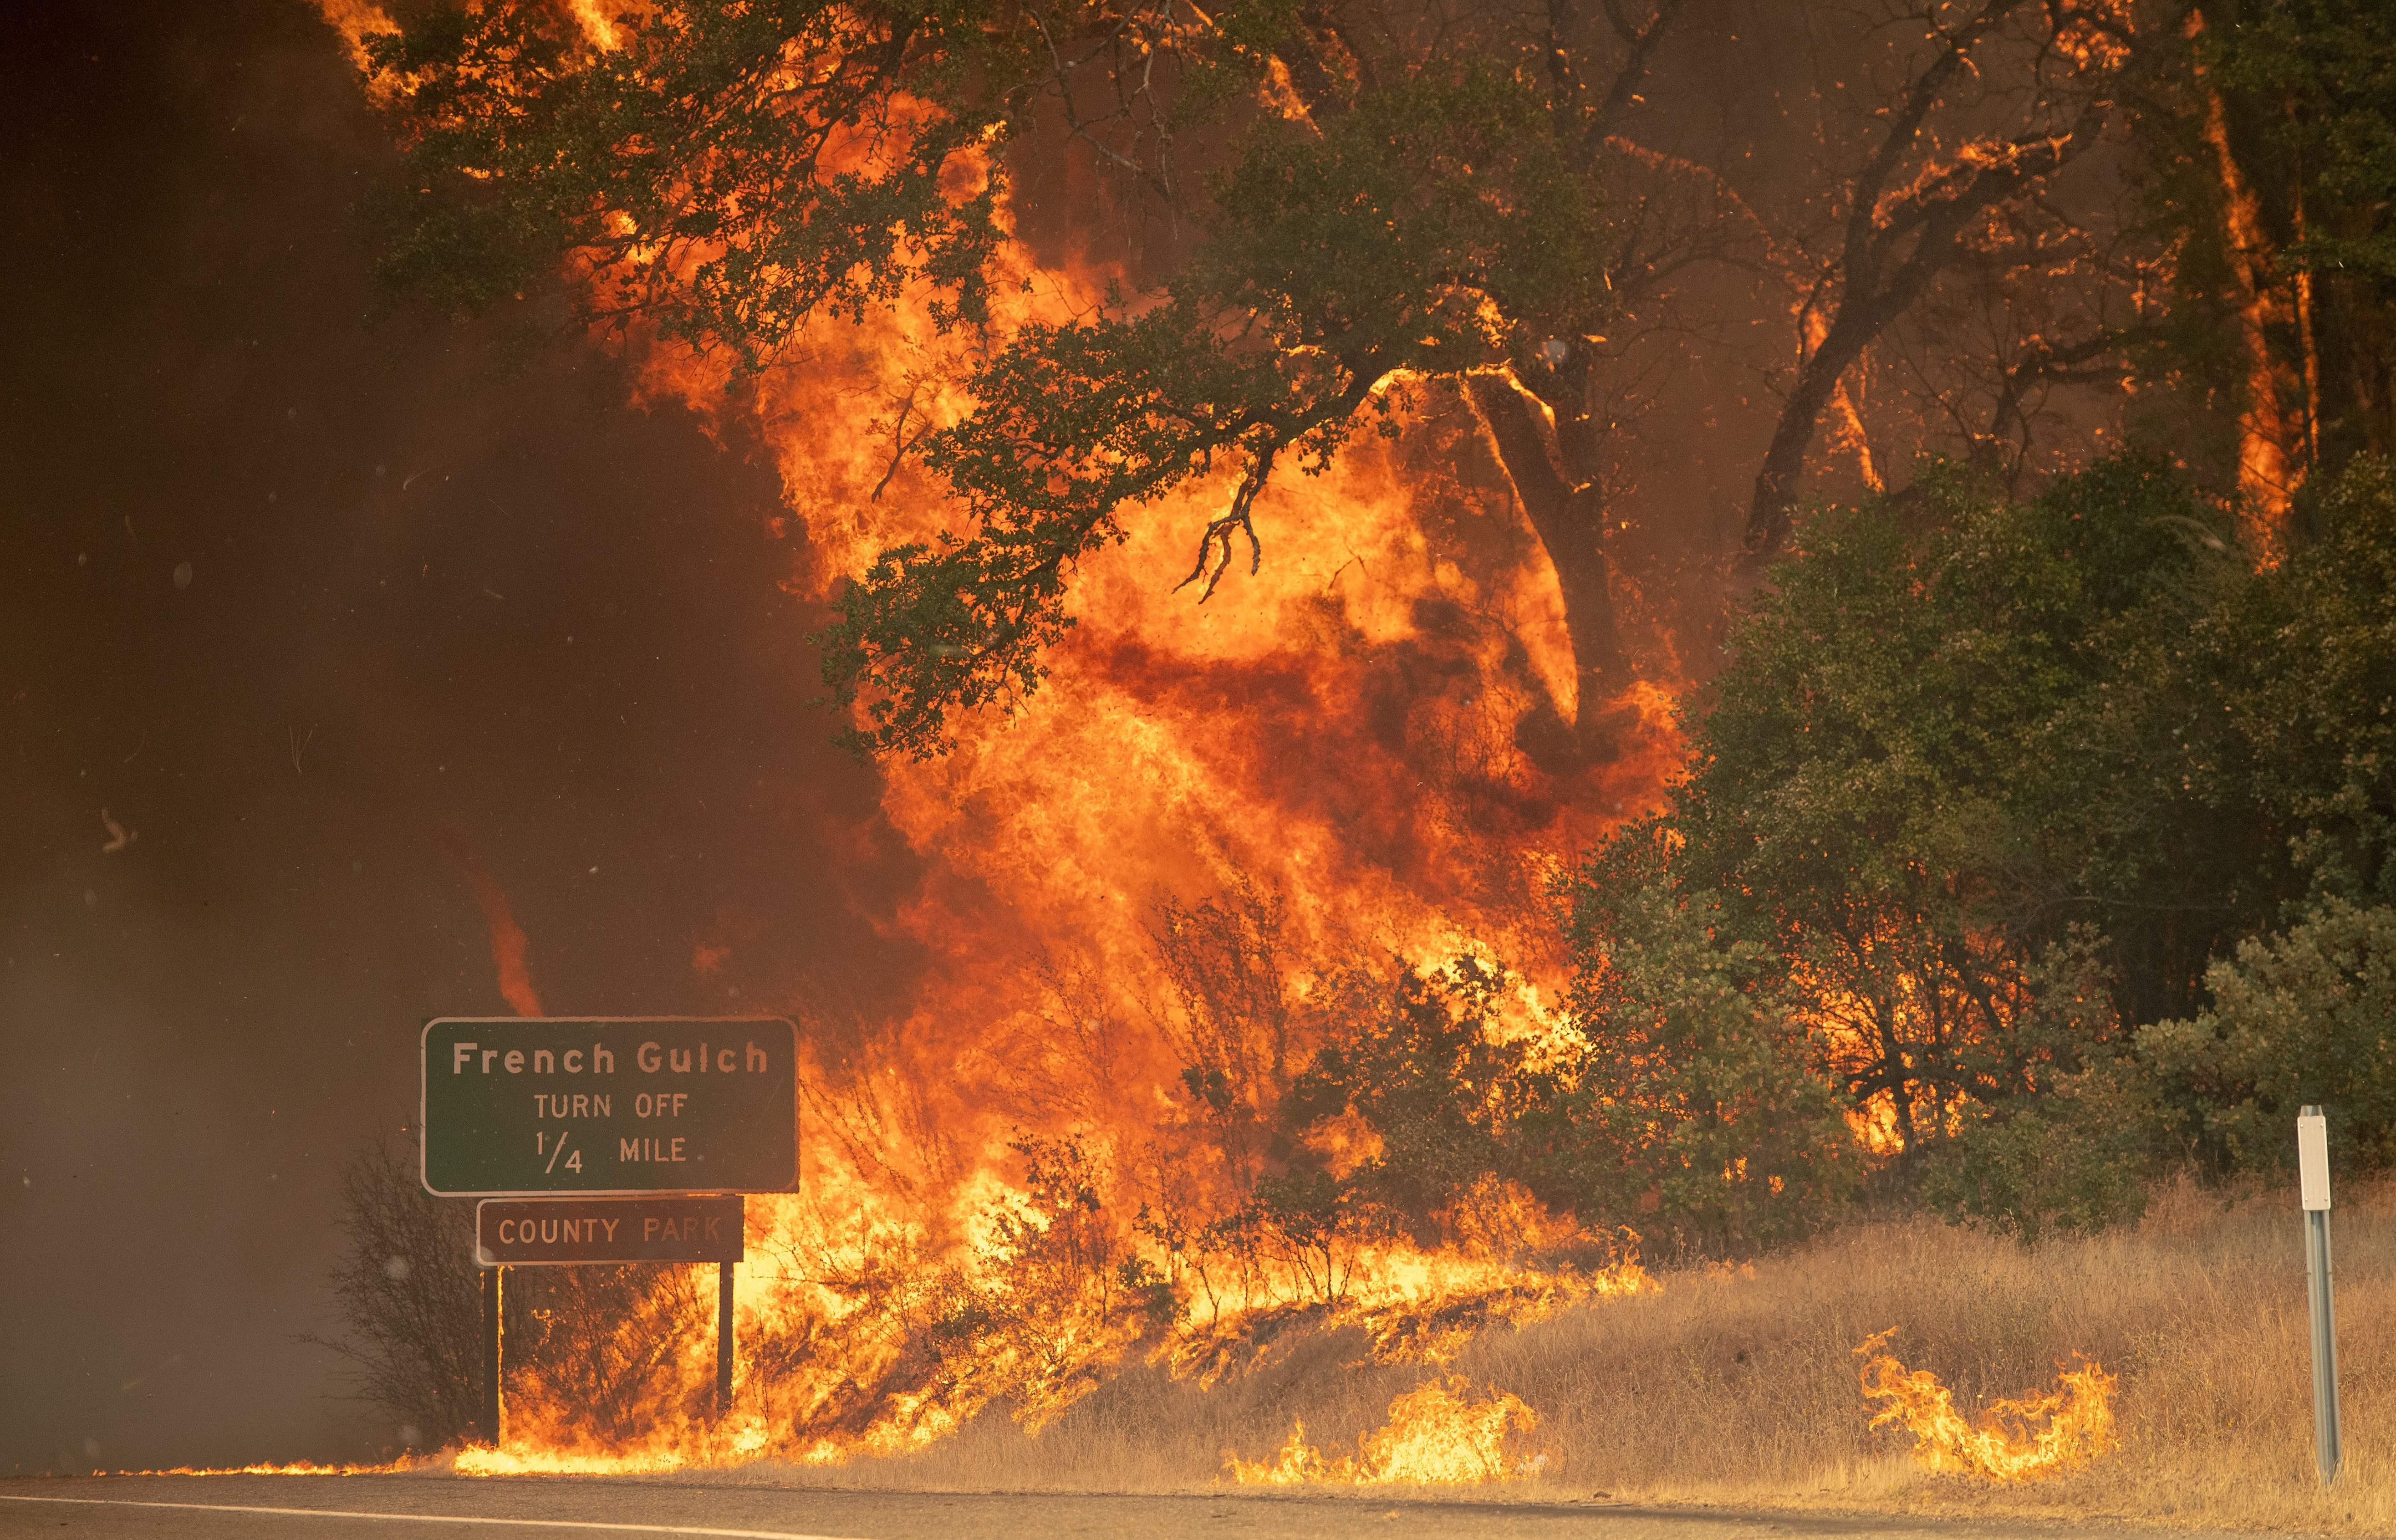Fire: (299, 9, 2155, 1486)
